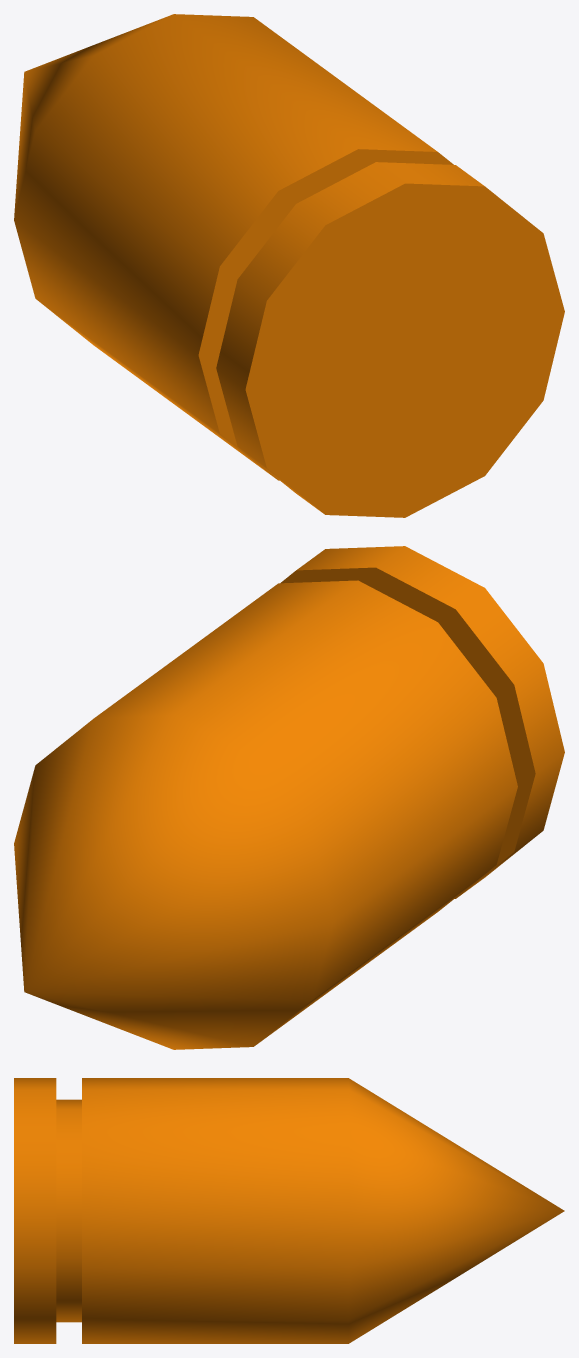
The model's file is HighPolyBullet.fbx.
3 renders of one model, top to bottom at view 1: azimuth 30°, elevation 25°; view 2: azimuth 150°, elevation 25°; view 3: azimuth 270°, elevation 25°, orthographic. The views are drawn at different scales.
Visible parts, largest first — view 1: Bullet; view 2: Bullet; view 3: Bullet.
Part boxes in pixels (x1,y1,x2,y2): Bullet: (14,14,564,517); Bullet: (14,546,564,1049); Bullet: (14,1078,564,1343).
Bounding box in the file's own units: 200 × 413 × 200.
